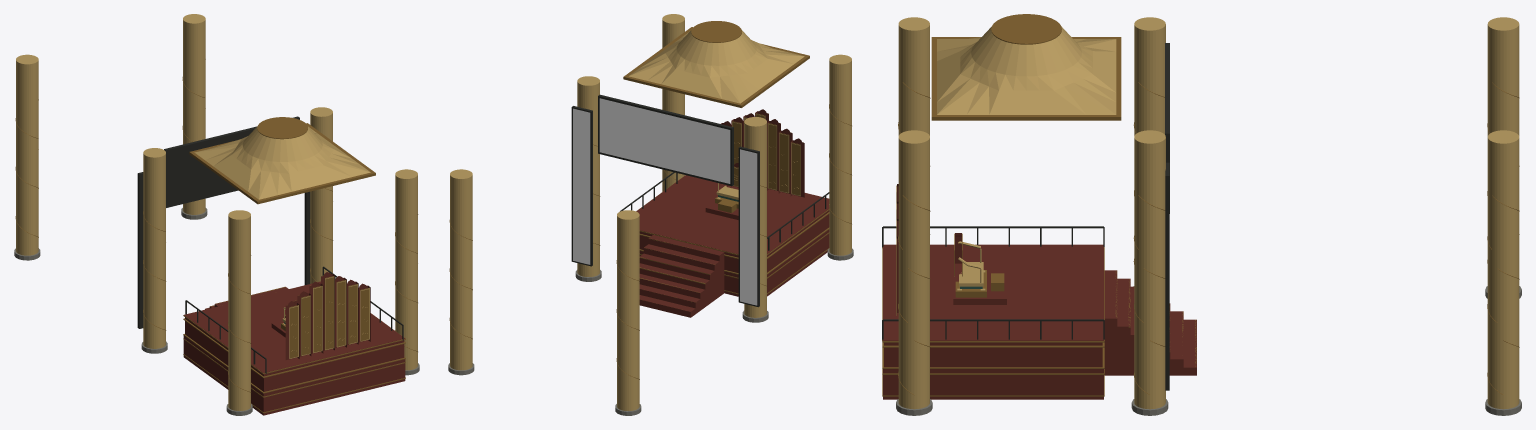
File: taihe-v16-bdc5d69b1265.glb
3 renders of one model, left to right at view 1: azimuth 30°, elevation 25°; view 2: azimuth 150°, elevation 25°; view 3: azimuth 270°, elevation 25°, orthographic. The views are drawn at different scales.
Parts seen in each view (by area): view 1: merged_taihe_gold, merged_taihe_lacquer, merged_taihe_dark_gold, merged_taihe_dark_wood, merged_taihe_stone; view 2: merged_taihe_gold, merged_taihe_lacquer, merged_taihe_glyph_atlas, merged_taihe_dark_gold, merged_taihe_dark_wood, merged_taihe_stone; view 3: merged_taihe_gold, merged_taihe_lacquer, merged_taihe_dark_gold, merged_taihe_dark_wood, merged_taihe_stone.
Part boxes in pixels (left/top/right/bottom): merged_taihe_gold: left=16, top=14, right=417, bottom=410; merged_taihe_lacquer: left=183, top=272, right=405, bottom=415; merged_taihe_dark_gold: left=15, top=77, right=418, bottom=413; merged_taihe_dark_wood: left=137, top=116, right=403, bottom=373; merged_taihe_stone: left=14, top=208, right=419, bottom=415; merged_taihe_gold: left=450, top=14, right=851, bottom=410; merged_taihe_lacquer: left=636, top=109, right=829, bottom=317; merged_taihe_glyph_atlas: left=573, top=98, right=757, bottom=305; merged_taihe_dark_gold: left=449, top=21, right=851, bottom=379; merged_taihe_dark_wood: left=571, top=94, right=829, bottom=307; merged_taihe_stone: left=448, top=248, right=853, bottom=415; merged_taihe_gold: left=896, top=17, right=1519, bottom=409; merged_taihe_lacquer: left=883, top=184, right=1196, bottom=399; merged_taihe_dark_gold: left=882, top=14, right=1519, bottom=396; merged_taihe_dark_wood: left=882, top=43, right=1169, bottom=390; merged_taihe_stone: left=896, top=286, right=1521, bottom=415.
Bounding box in the file's own units: 9.63 × 11.27 × 20.25.
